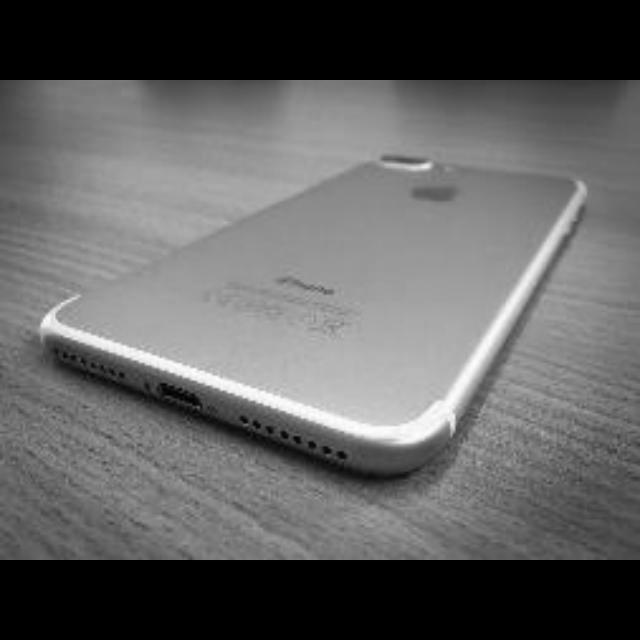fake: (14, 106, 602, 502)
